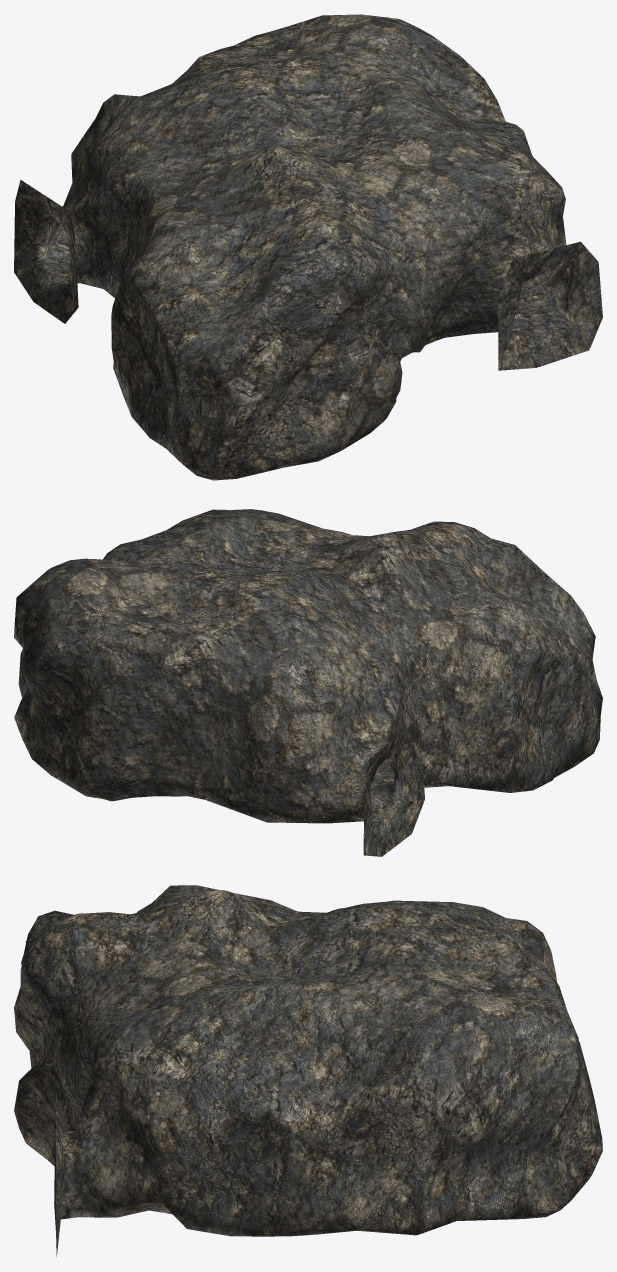
File: Module17.fbx
3 renders of one model, top to bottom at view 1: azimuth 30°, elevation 25°; view 2: azimuth 150°, elevation 25°; view 3: azimuth 270°, elevation 25°, orthographic. The views are drawn at different scales.
Parts seen in each view (by area): view 1: cave_el17_1800:Group53623; view 2: cave_el17_1800:Group53623; view 3: cave_el17_1800:Group53623.
Boxes of the visible parts, box(x1,y1,x2,y2) form: cave_el17_1800:Group53623: box(14, 14, 602, 480); cave_el17_1800:Group53623: box(14, 509, 602, 856); cave_el17_1800:Group53623: box(14, 885, 602, 1256).
Bounding box in the file's own units: 36.58 × 19.81 × 36.07.
